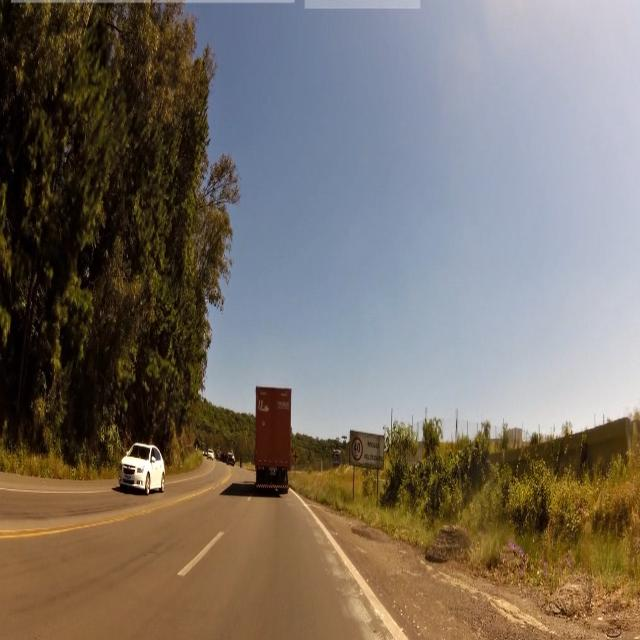R-19: (352, 439, 362, 461)
